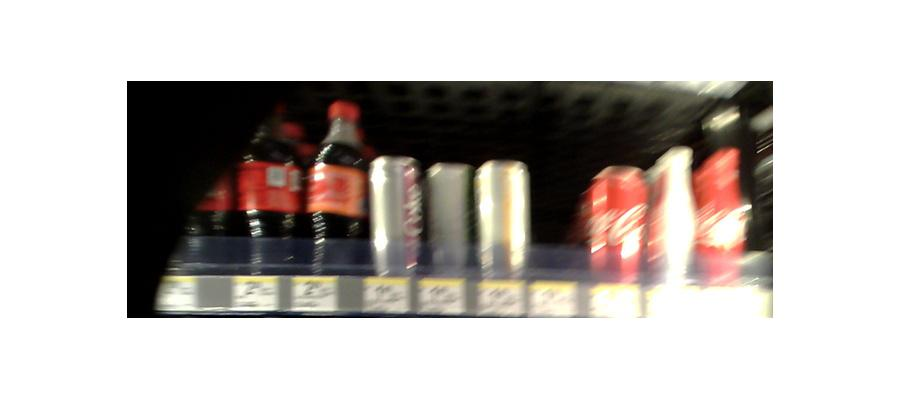bottle: (237, 100, 304, 276), (309, 98, 366, 276), (583, 163, 652, 301), (698, 134, 750, 288), (187, 123, 239, 277), (651, 141, 698, 301), (473, 161, 532, 286), (369, 152, 421, 283), (425, 162, 472, 281)
